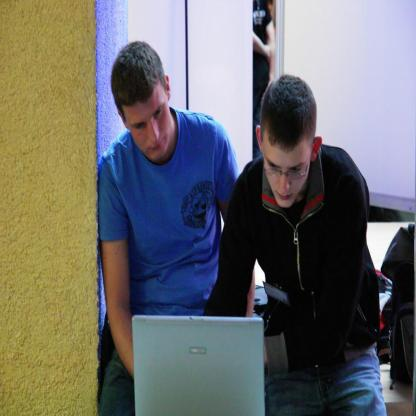board: (131, 311, 277, 411)
